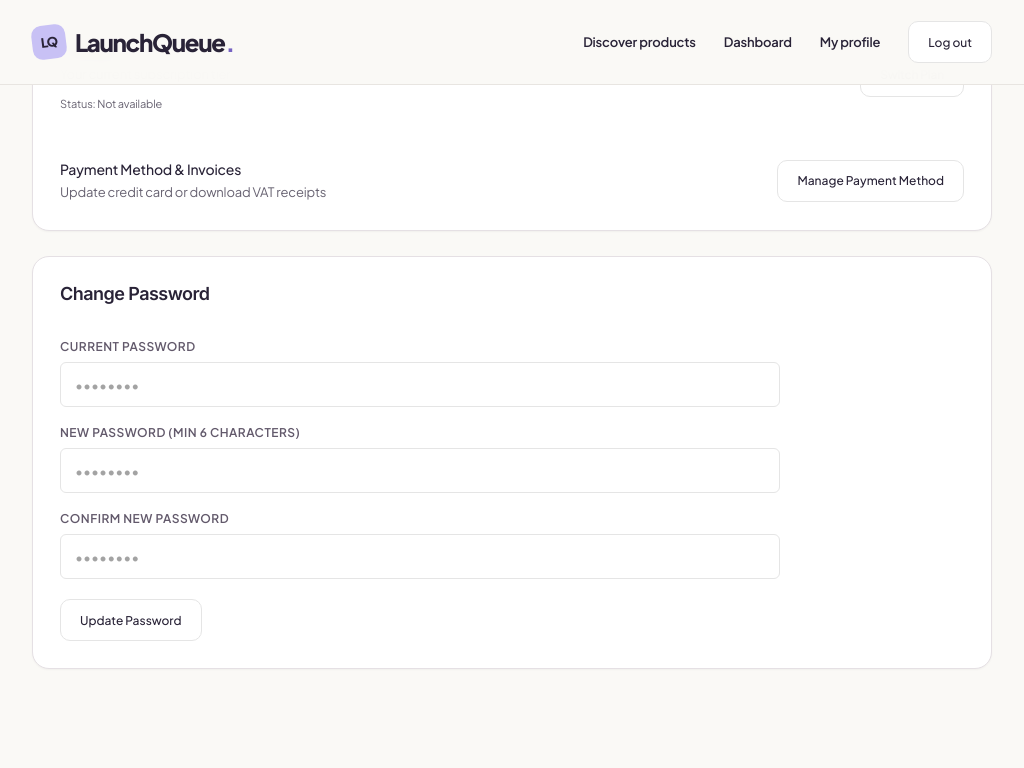
Test case: Profile Page › submits password change when passwords match
The image size is (1024, 768).
(page scrolled)
Type "currentPassword123" into the password field with placeholder "••••••••" at [420, 384], box [60, 362, 780, 407]
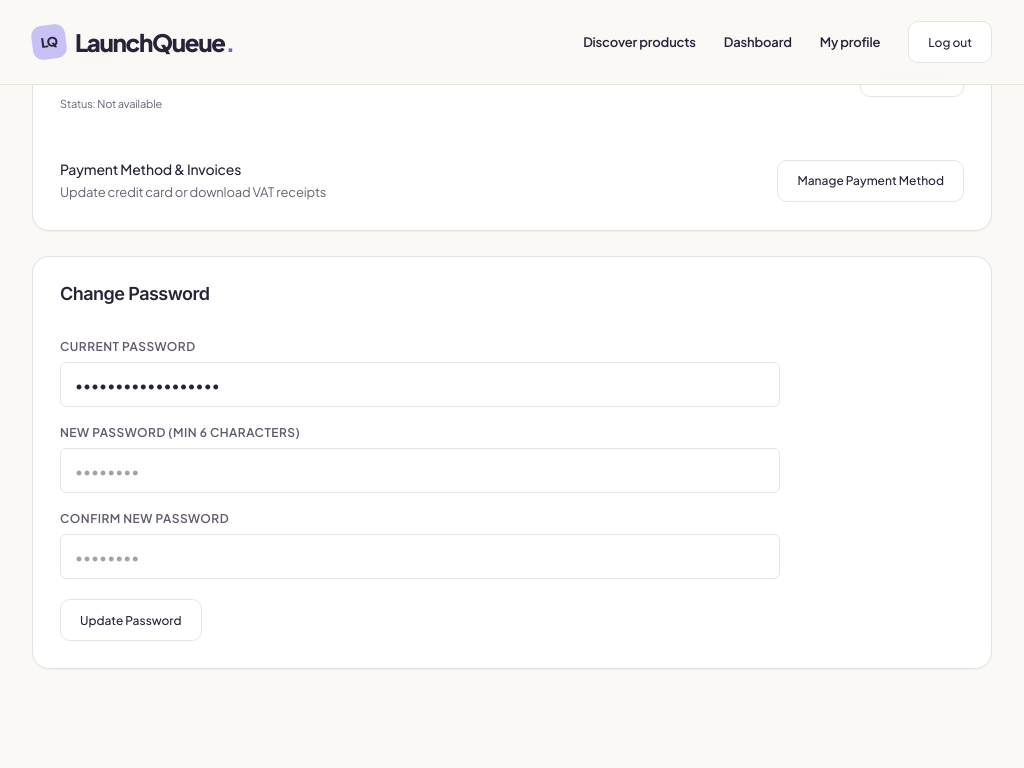
Type "newPassword123" into the password field with placeholder "••••••••" at [420, 471], box [60, 448, 780, 493]
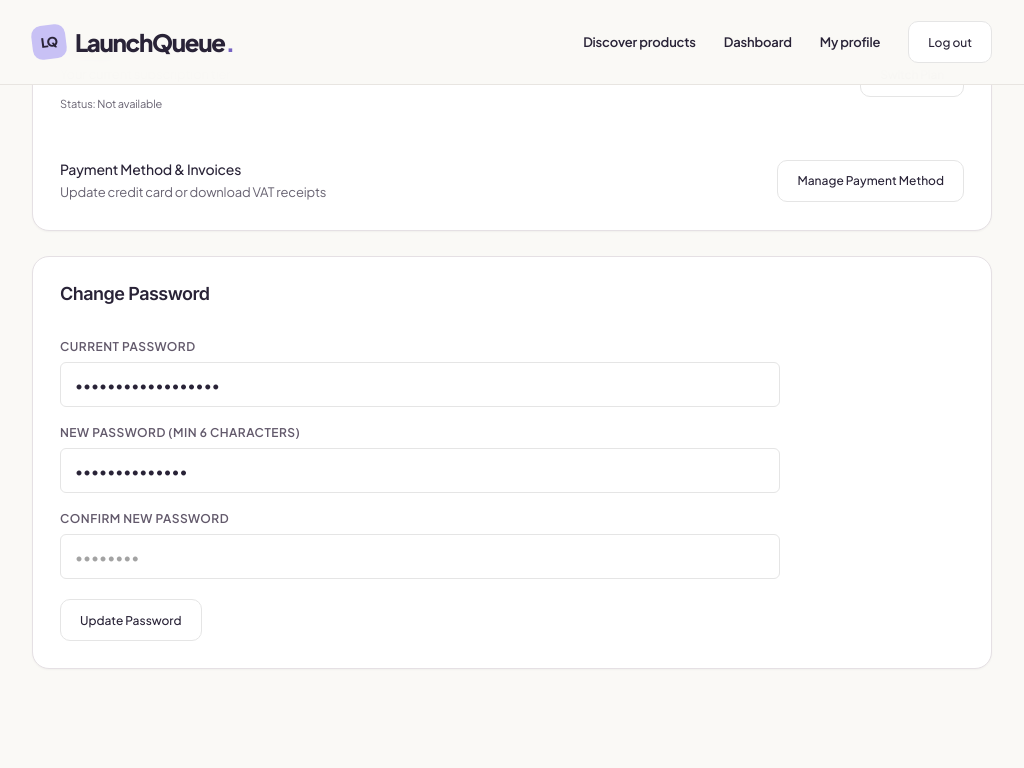
Type "newPassword123" into the password field with placeholder "••••••••" at [420, 557], box [60, 534, 780, 579]
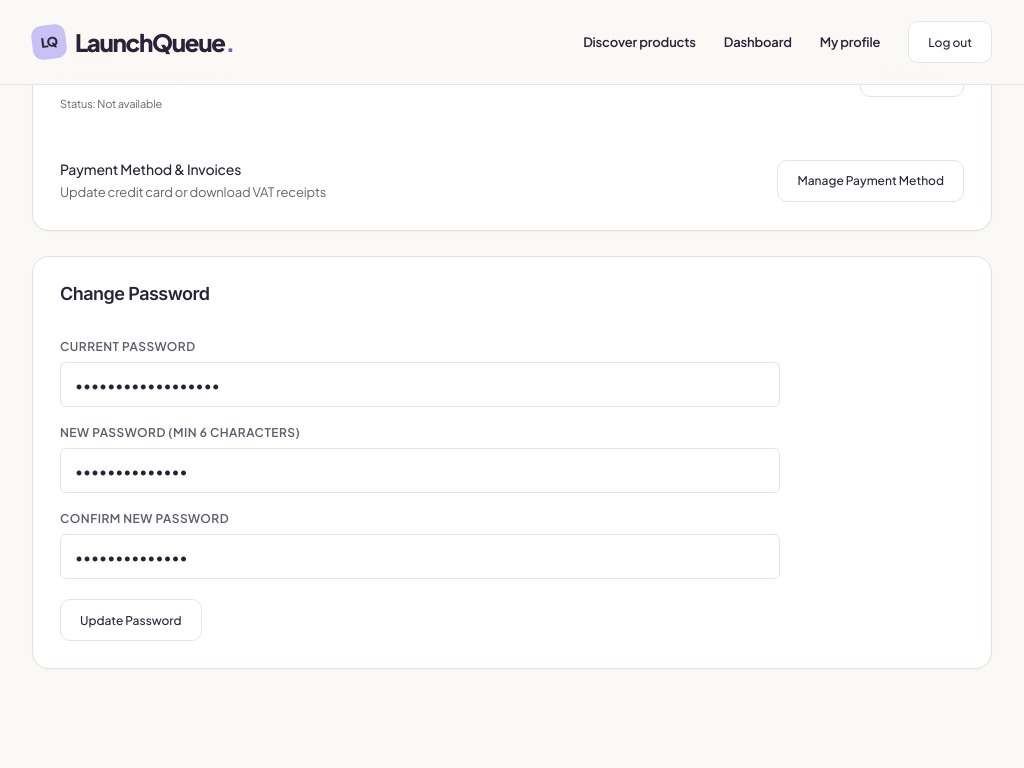
Click the button "Update Password" at [131, 620], box [60, 599, 202, 641]
(page scrolled)
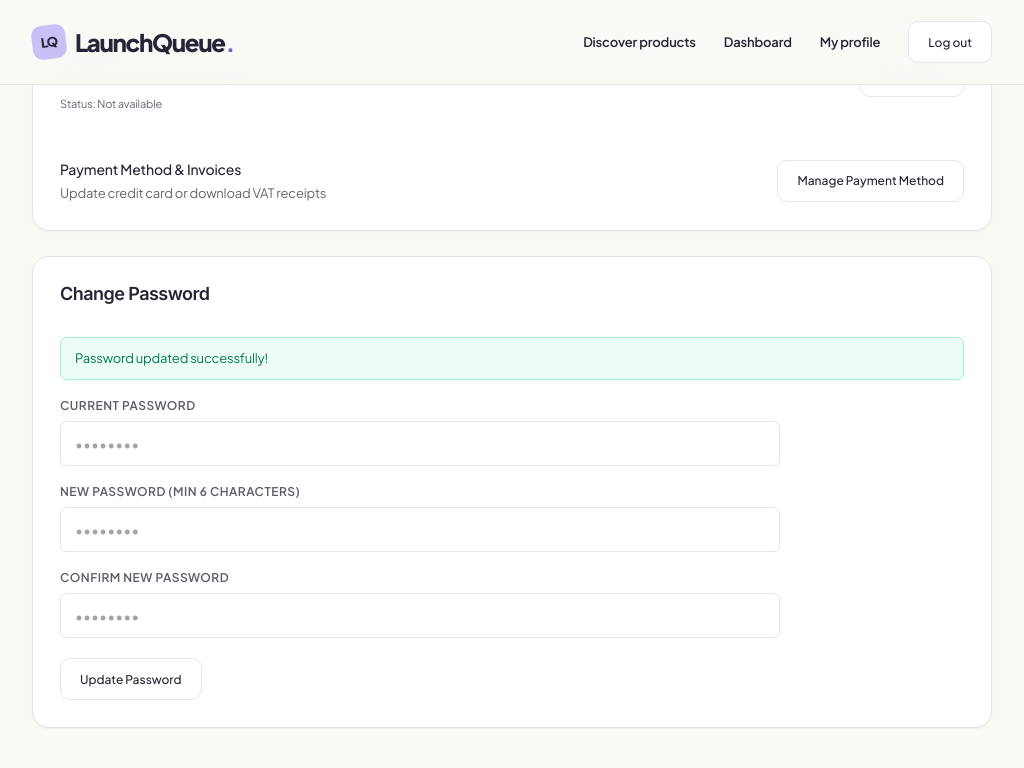
Expected: the text "Password updated successfully!" is shown, [60, 337, 964, 380]
